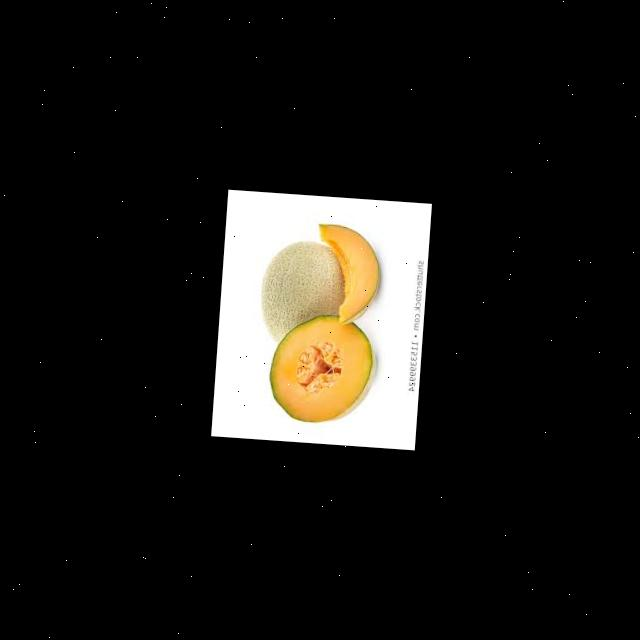Hami Melon: (265, 312, 378, 426), (255, 238, 345, 346), (308, 224, 382, 326)
